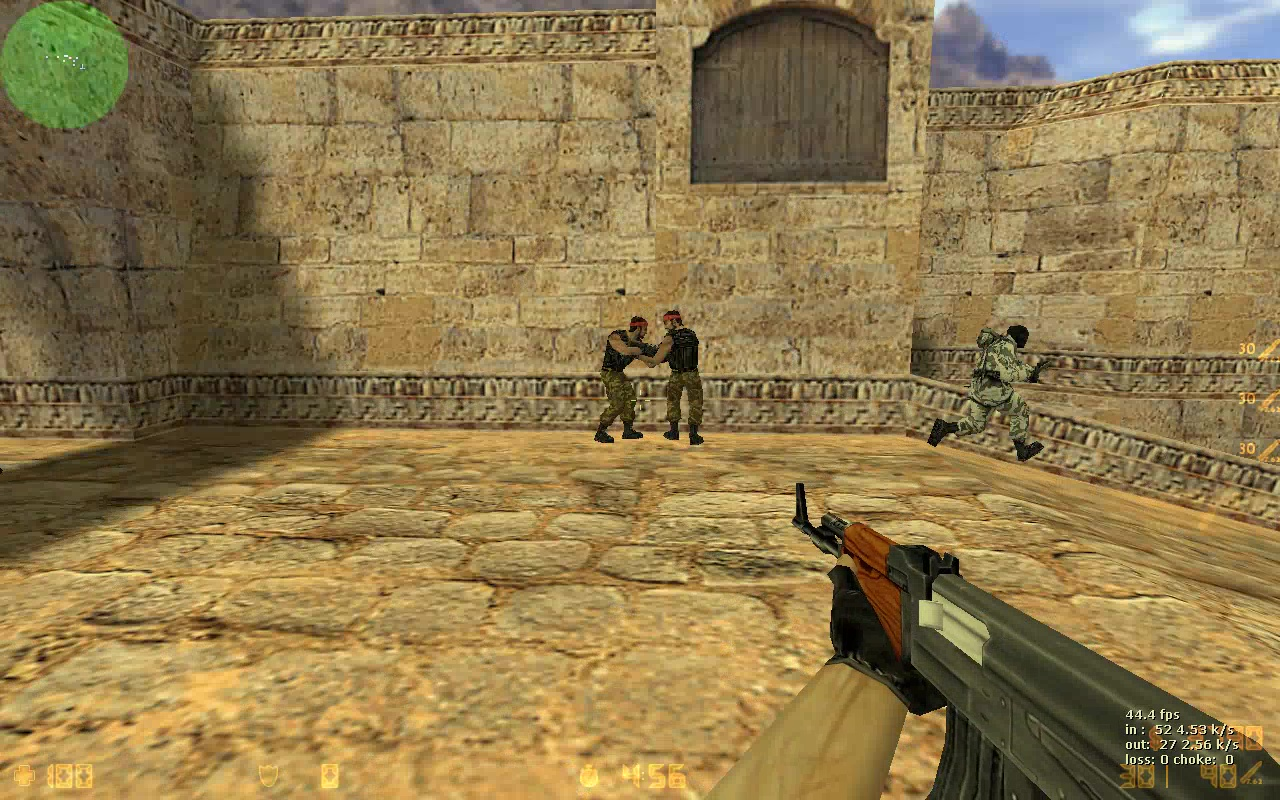terr1: (596, 317, 658, 443), (648, 311, 706, 445)
terr2: (926, 324, 1046, 461)
